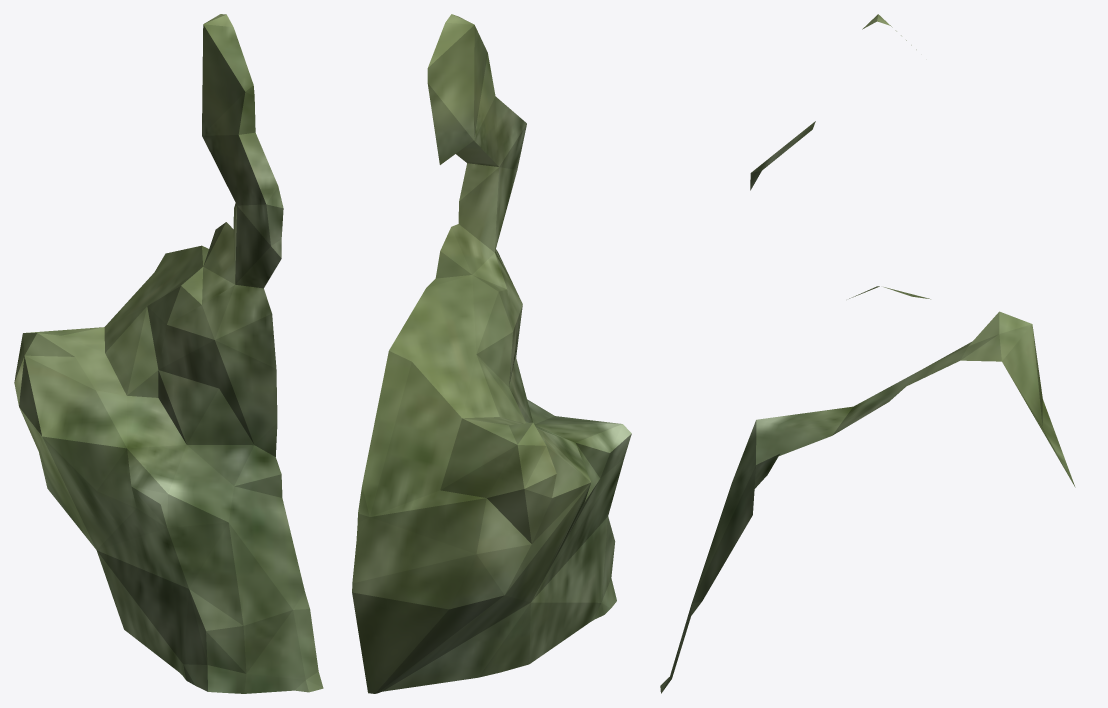
The picture shows the model from 3 angles, left to right: view 1: azimuth 30°, elevation 25°; view 2: azimuth 150°, elevation 25°; view 3: azimuth 270°, elevation 25°; orthographic projection. The views are drawn at different scales.
Size of the model in its own units: 0.5122 by 1.84 by 1.07.
1 material, 1 textured.
